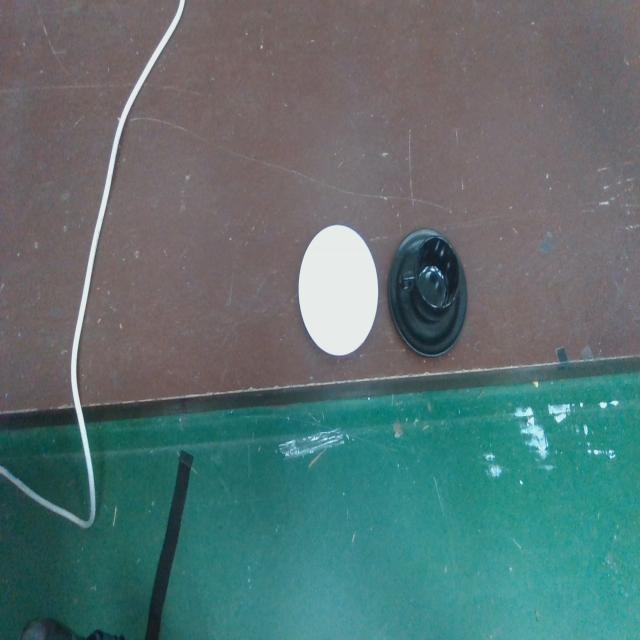black: (386, 222, 470, 362)
white: (296, 222, 381, 362)
